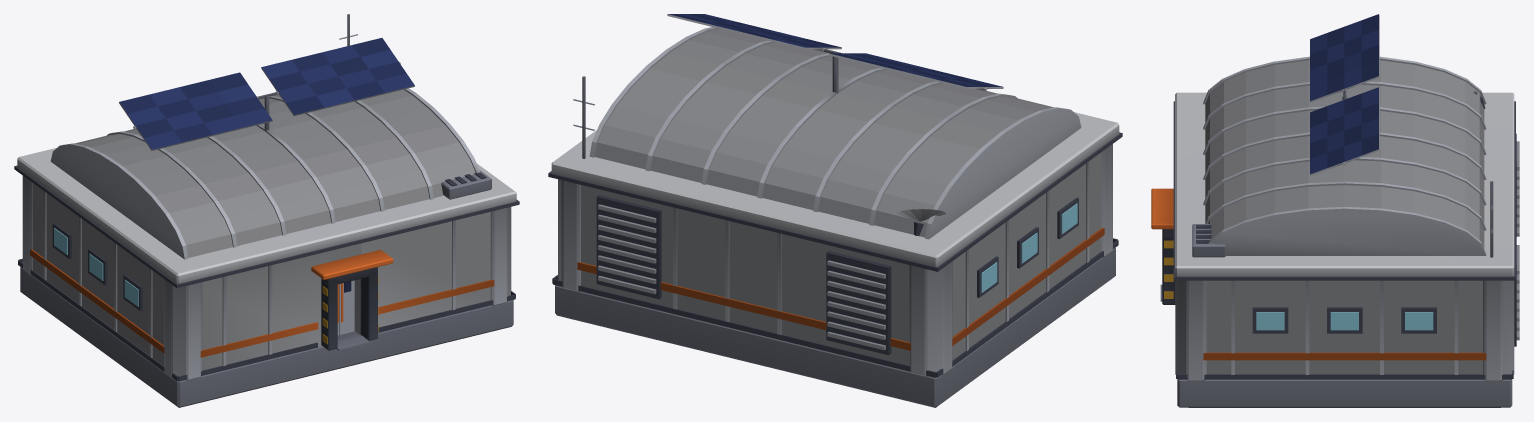
File: habitat.glb
3 views of the same model, side by side, from view 1: azimuth 30°, elevation 25°; view 2: azimuth 150°, elevation 25°; view 3: azimuth 270°, elevation 25° (orthographic). The views are drawn at different scales.
Visible parts, largest first — view 1: habitat, door_r, lit_windows; view 2: habitat, lit_windows; view 3: habitat, lit_windows.
Boxes of the visible parts, x1,y1,x2,y2 form: habitat: [14, 14, 519, 407]; door_r: [339, 280, 354, 334]; lit_windows: [54, 228, 138, 306]; habitat: [548, 14, 1122, 407]; lit_windows: [981, 203, 1077, 292]; habitat: [1151, 14, 1519, 407]; lit_windows: [1256, 312, 1433, 330].
Bounding box in the file's own units: 11.2 × 7.25 × 9.9.
